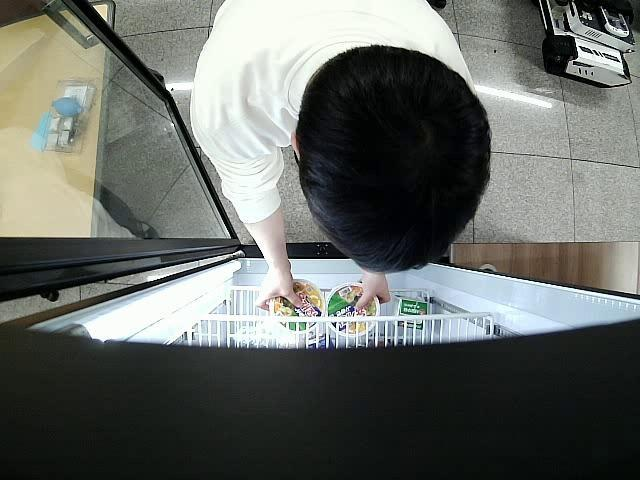09_yukGaeJang: (269, 278, 325, 331), (327, 283, 379, 336)
